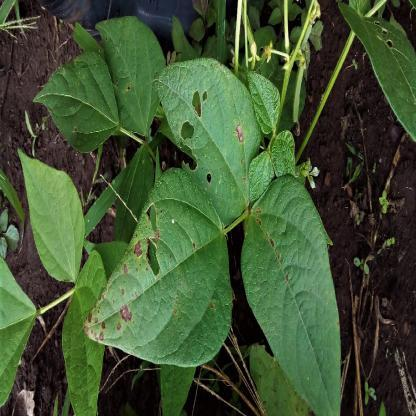Beans_Angular_LeafSpot: (85, 178, 237, 374), (244, 198, 340, 388), (157, 61, 257, 203)
